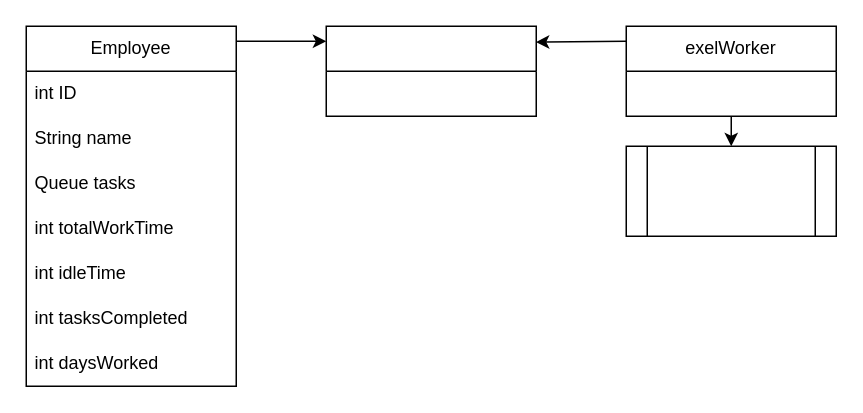
Some shapes in this 863 by 413 pixel diagram are drawn without their labels. The centre of each missing label's shape, as x and y in pixels:
Main: [430,70]
writeResultstoExel(): [730,190]
